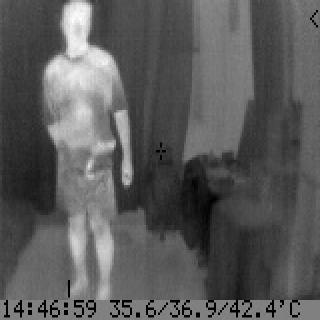Gun: (82, 138, 118, 180)
